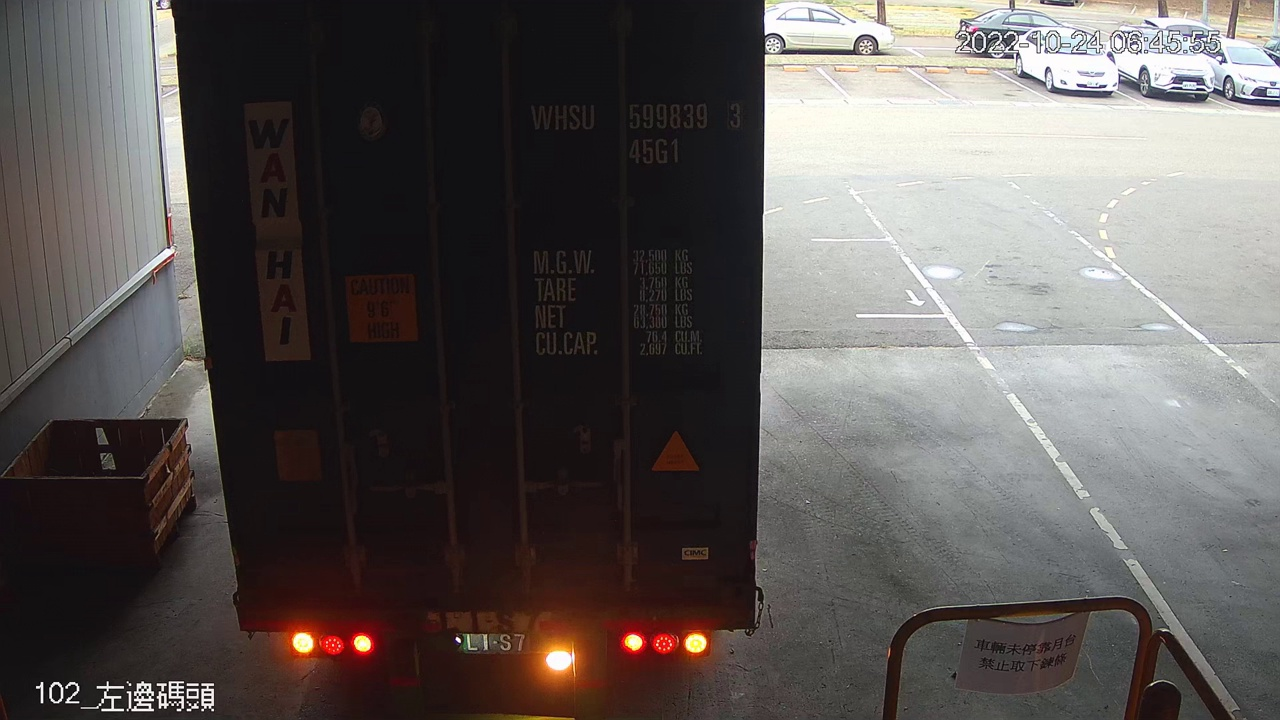container: (520, 90, 754, 173)
